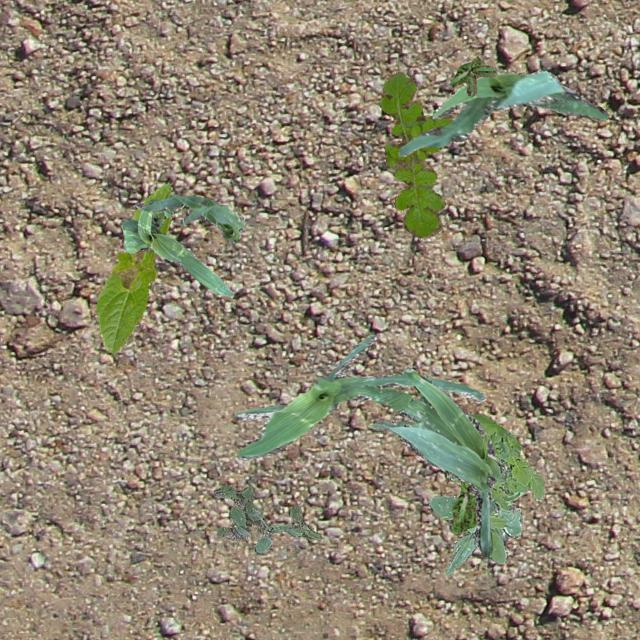crop: (233, 334, 484, 458), (370, 368, 500, 556), (396, 70, 606, 156), (94, 182, 170, 352), (119, 196, 232, 296), (428, 462, 522, 574), (134, 194, 242, 242)
weed: (378, 70, 452, 238), (446, 414, 542, 514), (212, 484, 322, 554), (448, 56, 494, 96), (452, 480, 476, 532)
